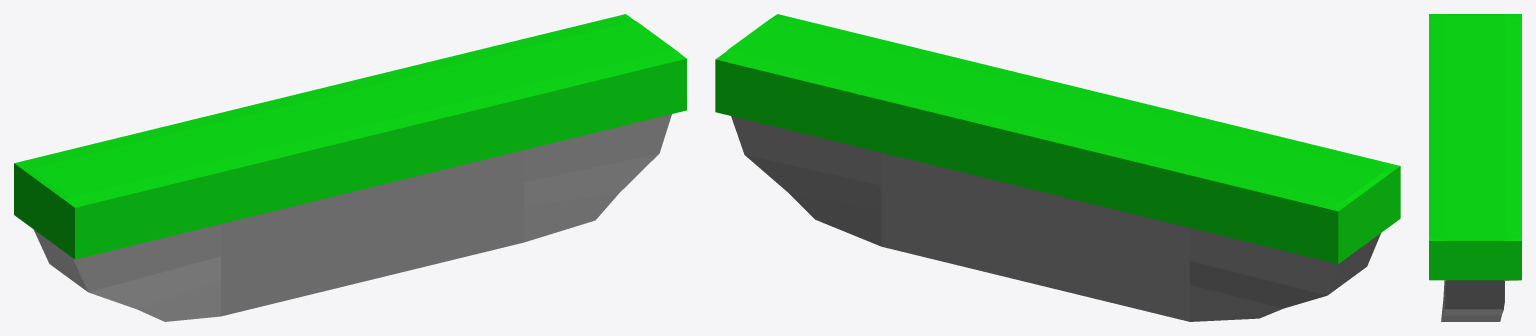
Rendered from platform_collectible.fbx.
The picture shows the model from 3 angles, left to right: view 1: azimuth 30°, elevation 25°; view 2: azimuth 150°, elevation 25°; view 3: azimuth 270°, elevation 25°; orthographic projection. The views are drawn at different scales.
Parts seen in each view (by area): view 1: Cube; view 2: Cube; view 3: Cube.
Part boxes in pixels (bbox=[...]): Cube: bbox=[14, 14, 686, 321]; Cube: bbox=[715, 14, 1400, 321]; Cube: bbox=[1429, 14, 1521, 321].
Size of the model in its own units: 136 by 33.02 by 23.41.
